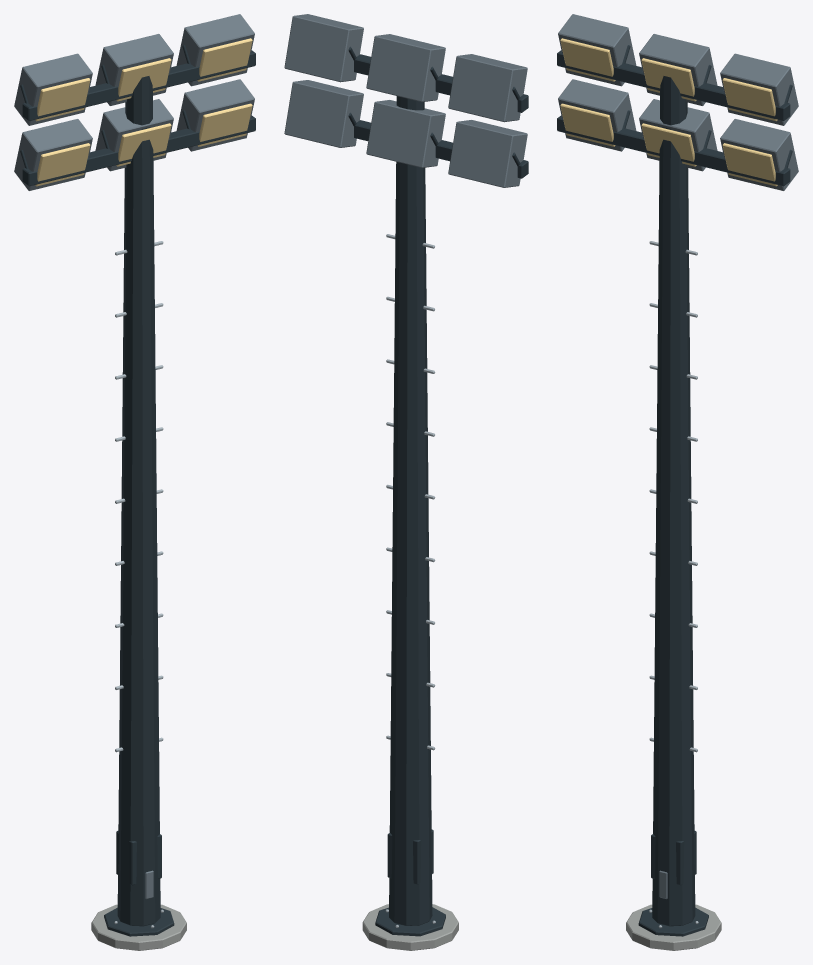
The model's file is b18_stadium_floodlight_mast.glb.
3 renders of one model, left to right at view 1: azimuth 30°, elevation 25°; view 2: azimuth 150°, elevation 25°; view 3: azimuth 330°, elevation 25°, orthographic.
Parts seen in each view (by area): view 1: b18_stadium_floodlight_mast; view 2: b18_stadium_floodlight_mast; view 3: b18_stadium_floodlight_mast.
Boxes of the visible parts, x1=… form: b18_stadium_floodlight_mast: x1=14, y1=14, x2=255, y2=950; b18_stadium_floodlight_mast: x1=284, y1=14, x2=528, y2=950; b18_stadium_floodlight_mast: x1=557, y1=14, x2=798, y2=950.
Bounding box in the file's own units: 2.3 × 8.55 × 0.836.
